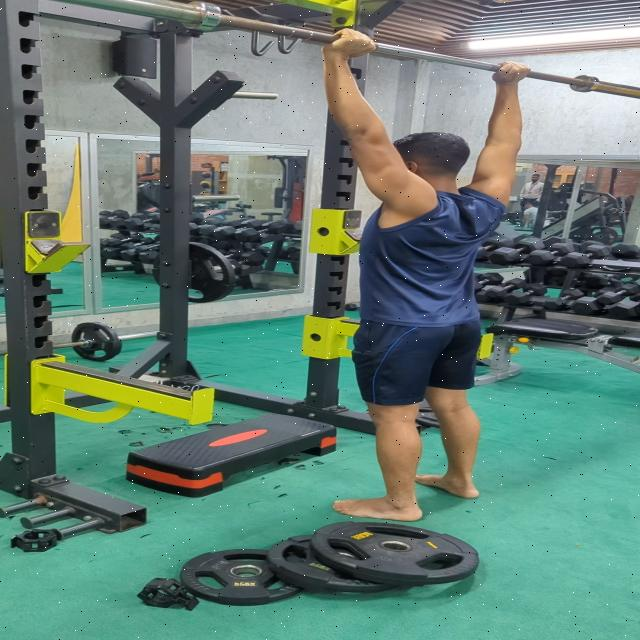Normal_OverheadPress: (270, 25, 542, 525)
